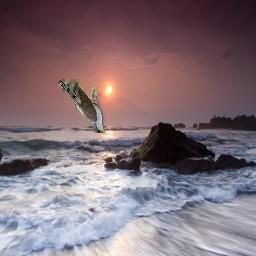Cuckoo: (59, 79, 106, 133)
